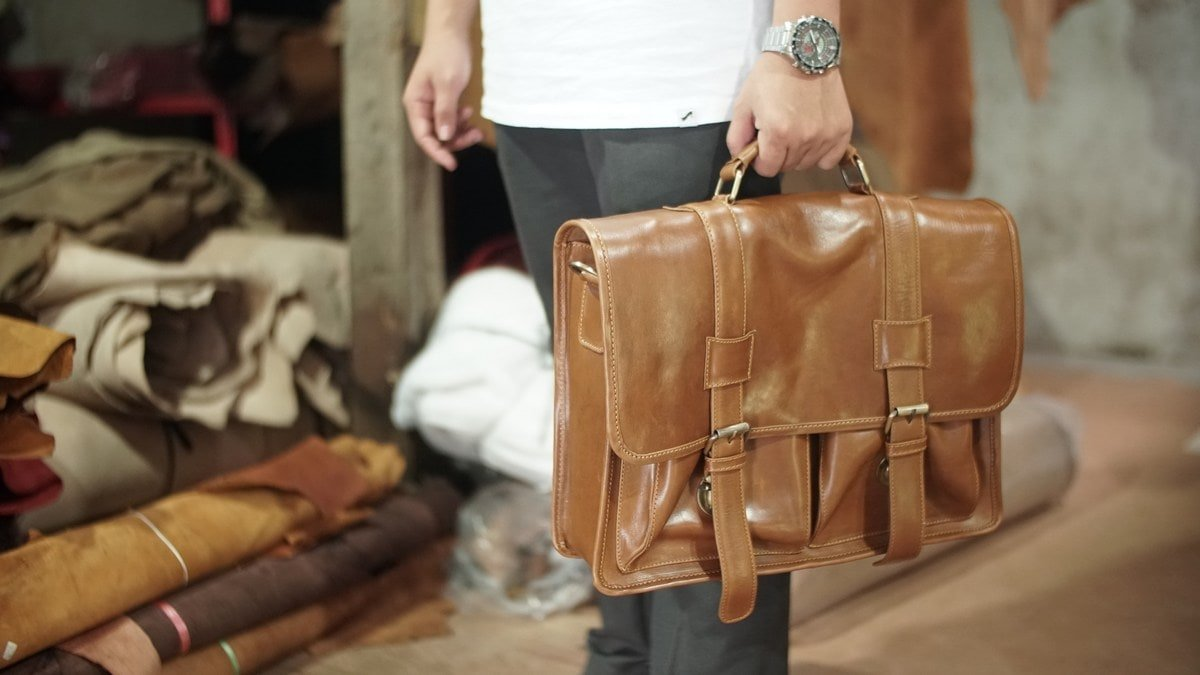bag: (537, 132, 1027, 605)
